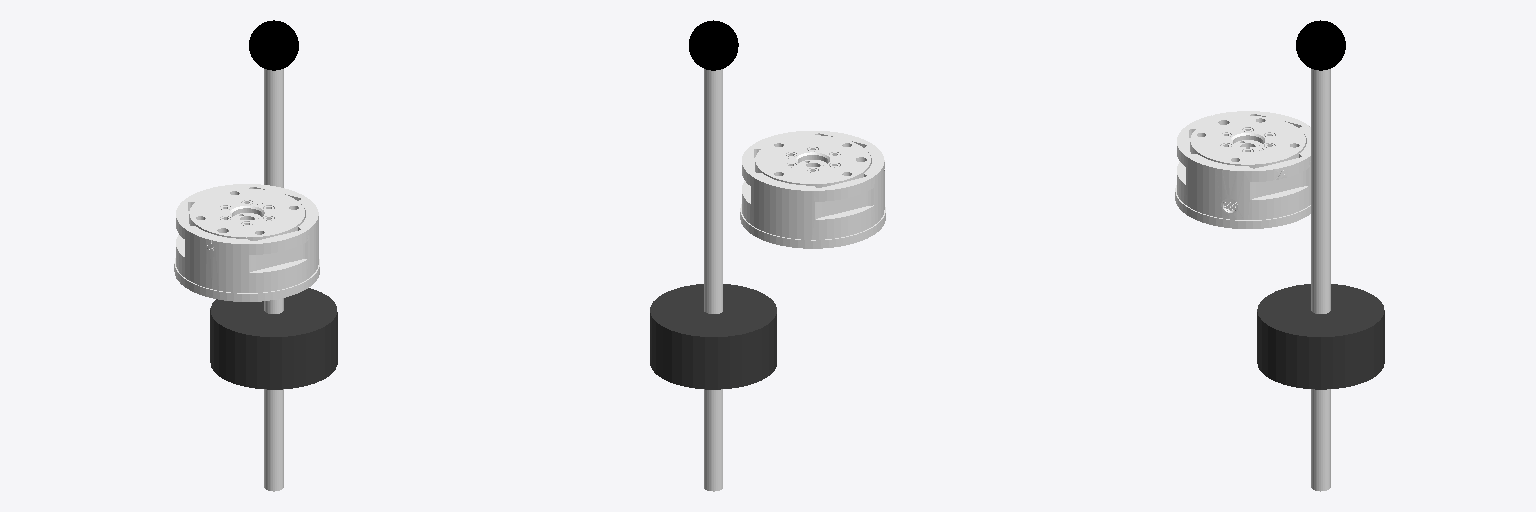
The robot description file, URDF, robot "kuka":
<?xml version="1.0" ?>
<robot name="kuka">
    <material name="DarkGrey">
        <color rgba="0.3 0.3 0.3 1.0"/>
    </material>
    <material name="Black">
        <color rgba="0 0 0 1.0"/>
    </material>
    <material name="Orange">
        <color rgba="1.0 0.487 0 1.0"/>
    </material>
    <material name="Silver">
        <color rgba="1.0 1.0 1.0 1.0"/>
    </material>
    <material name="Grey">
        <color rgba="0.7 0.7 0.7 1.0"/>
    </material>
    <material name="Blue">
        <color rgba="0.0 0.0 0.8 1.0"/>
    </material>
    <link name="lwr_world">
      <inertial>
        <mass value="0"/>
        <inertia ixx="0.0" ixy="0" ixz="0" iyy="0.0" iyz="0" izz="0.0"/>
      </inertial>
    </link>
    <!-- joint between {parent} and link_0 -->
    <joint name="lwr_world_joint" type="fixed">
      <origin rpy="0 0 0" xyz="0 0 0"/>
      <parent link="lwr_world"/>
      <child link="lwr_arm_0_link"/>
    </joint>
    <link name="lwr_arm_0_link">
        <inertial>
            <mass value="2.0"/>
            <origin xyz="0 0 0.055"/>
            <inertia ixx="0.00381666666667" ixy="0" ixz="0" iyy="0.0036" iyz="0" izz="0.00381666666667"/>
        </inertial>
        <visual>
            <origin rpy="0 0 3.14159265359" xyz="0 0 0"/>
            <geometry>
                <mesh filename="meshes/visual/base.STL"/>
            </geometry>
            <material name="Grey"/>
        </visual>

        <collision>
            <origin rpy="0 0 0" xyz="0 0 0.055"/>
            <geometry>
                <cylinder length="0.11" radius="0.07"/>
            </geometry>
        </collision>
    </link>
    <joint name="lwr_arm_0_joint" type="revolute">
        <origin rpy="0 0 3.14159265359" xyz="0 0 0.11"/>
        <axis xyz="0 0 1"/>
        <limit effort="204" lower="-2.96705972839" upper="2.96705972839" velocity="1.91986217719"/>
        <safety_controller k_position="30" k_velocity="30" soft_lower_limit="-2.93215314335" soft_upper_limit="2.93215314335"/>
        <dynamics damping="1.0"/>
        <parent link="lwr_arm_0_link"/>
        <child link="lwr_arm_1_link"/>
    </joint>
    <link name="lwr_arm_1_link">
        <inertial>
            <mass value="2.0"/>
            <origin rpy="0 0 0" xyz="0 -0.06 0.130"/>
            <inertia ixx="0.0136666666667" ixy="0" ixz="0" iyy="0.003" iyz="0" izz="0.0118666666667"/>
        </inertial>
        <visual>
            <origin rpy="0 0 0" xyz="0 0 -0.008"/>
            <geometry>
                <mesh filename="meshes/visual/link_1.STL"/>
            </geometry>
            <material name="Blue"/>
        </visual>

        <collision>
            <origin rpy="0 0 0" xyz="0 0 0.0"/>
            <geometry>
                <sphere radius="0.07"/>
            </geometry>
        </collision>
        <collision>
            <origin rpy="0 0 0" xyz="0 -0.06 0.2"/>
            <geometry>
                <sphere radius="0.07"/>
            </geometry>
        </collision>
        <collision>
            <origin rpy="0.291 0 0" xyz="0 -0.03 0.1"/>
            <geometry>
                <cylinder length="0.208" radius="0.07"/>
            </geometry>
        </collision>
    </link>
    <transmission name="lwr_arm_0_trans" type="SimpleTransmission">
        <actuator name="lwr_arm_0_motor"/>
        <joint name="lwr_arm_0_joint"/>
        <mechanicalReduction>1.0</mechanicalReduction>
    </transmission>
    <joint name="lwr_arm_1_joint" type="revolute">
        <origin rpy="0 0 0" xyz="0 0 0.2"/>
        <axis xyz="0 1 0"/>
        <limit effort="306" lower="-2.09439510239" upper="2.09439510239" velocity="1.91986217719"/>
        <safety_controller k_position="30" k_velocity="30" soft_lower_limit="-2.05948851735" soft_upper_limit="2.05948851735"/>
        <dynamics damping="1.0" friction="10"/>
        <parent link="lwr_arm_1_link"/>
        <child link="lwr_arm_2_link"/>
    </joint>
    <link name="lwr_arm_2_link">
        <inertial>
            <mass value="2.0"/>
            <origin rpy="0 0 0" xyz="0 0.06 0.07"/>
            <inertia ixx="0.0136666666667" ixy="0" ixz="0" iyy="0.003" iyz="0" izz="0.0118666666667"/>
        </inertial>
        <visual>
            <origin rpy="0 0 0" xyz="0 0 0.0"/>
            <geometry>
                <mesh filename="meshes/visual/link_2.STL"/>
            </geometry>
            <material name="Blue"/>
        </visual>

        <collision>
            <origin rpy="0 0 0" xyz="0 0 0.2"/>
            <geometry>
                <sphere radius="0.07"/>
            </geometry>
        </collision>
        <collision>
            <origin rpy="0 0 0" xyz="0 0.06 0.0"/>
            <geometry>
                <sphere radius="0.07"/>
            </geometry>
        </collision>
        <collision>
            <origin rpy="0.291 0 0" xyz="0 0.03 0.1"/>
            <geometry>
                <cylinder length="0.208" radius="0.07"/>
            </geometry>
        </collision>
    </link>
    <transmission name="lwr_arm_1_trans" type="SimpleTransmission">
        <actuator name="lwr_arm_1_motor"/>
        <joint name="lwr_arm_1_joint"/>
        <mechanicalReduction>1.0</mechanicalReduction>
    </transmission>
    <joint name="lwr_arm_2_joint" type="revolute">
        <origin rpy="0 0 0" xyz="0 0 0.20"/>
        <axis xyz="0 0 1"/>
        <limit effort="204" lower="-2.96705972839" upper="2.96705972839" velocity="2.26892802759"/>
        <safety_controller k_position="30" k_velocity="30" soft_lower_limit="-2.93215314335" soft_upper_limit="2.93215314335"/>
        <dynamics damping="1.0"/>
        <parent link="lwr_arm_2_link"/>
        <child link="lwr_arm_3_link"/>
    </joint>
    <link name="lwr_arm_3_link">
        <inertial>
            <mass value="2.0"/>
            <origin rpy="0 0 0" xyz="0 0.06 0.130"/>
            <inertia ixx="0.0136666666667" ixy="0" ixz="0" iyy="0.003" iyz="0" izz="0.0118666666667"/>
        </inertial>
        <visual>
            <origin rpy="0 0 0" xyz="0 0 -0.008"/>
            <geometry>
                <mesh filename="meshes/visual/link_3.STL"/>
            </geometry>
            <material name="Blue"/>
        </visual>

        <collision>
            <origin rpy="0 0 0" xyz="0 0 0.0"/>
            <geometry>
                <sphere radius="0.07"/>
            </geometry>
        </collision>
        <collision>
            <origin rpy="0 0 0" xyz="0 0.06 0.2"/>
            <geometry>
                <sphere radius="0.07"/>
            </geometry>
        </collision>
        <collision>
            <origin rpy="-0.291 0 0" xyz="0 0.03 0.1"/>
            <geometry>
                <cylinder length="0.208" radius="0.07"/>
            </geometry>
        </collision>
    </link>
    <transmission name="lwr_arm_2_trans" type="SimpleTransmission">
        <actuator name="lwr_arm_2_motor"/>
        <joint name="lwr_arm_2_joint"/>
        <mechanicalReduction>1.0</mechanicalReduction>
    </transmission>
    <joint name="lwr_arm_3_joint" type="revolute">
        <origin rpy="0 0 0" xyz="0 0 0.20"/>
        <axis xyz="0 -1 0"/>
        <limit effort="306" lower="-2.09439510239" upper="2.09439510239" velocity="2.26892802759"/>
        <safety_controller k_position="30" k_velocity="30" soft_lower_limit="-2.05948851735" soft_upper_limit="2.05948851735"/>
        <dynamics damping="1.0"/>
        <parent link="lwr_arm_3_link"/>
        <child link="lwr_arm_4_link"/>
    </joint>
    <link name="lwr_arm_4_link">
        <inertial>
            <mass value="2.0"/>
            <origin rpy="0 0 0" xyz="0 -0.06 0.07"/>
            <inertia ixx="0.0136666666667" ixy="0" ixz="0" iyy="0.003" iyz="0" izz="0.0118666666667"/>
        </inertial>
        <visual>
            <origin rpy="0 0 0" xyz="0 0 0.0"/>
            <geometry>
            <mesh filename="meshes/visual/link_4.STL"/>
                </geometry>
            <material name="Blue"/>
        </visual>

        <collision>
            <origin rpy="0 0 0" xyz="0 0 0.2"/>
            <geometry>
                <sphere radius="0.07"/>
            </geometry>
        </collision>
            <collision>
            <origin rpy="0 0 0" xyz="0 -0.06 0.0"/>
            <geometry>
                <sphere radius="0.07"/>
            </geometry>
        </collision>
        <collision>
            <origin rpy="-0.291 0 0" xyz="0 -0.03 0.1"/>
            <geometry>
                <cylinder length="0.208" radius="0.07"/>
            </geometry>
        </collision>
    </link>
    <transmission name="lwr_arm_3_trans" type="SimpleTransmission">
        <actuator name="lwr_arm_3_motor"/>
        <joint name="lwr_arm_3_joint"/>
        <mechanicalReduction>1.0</mechanicalReduction>
    </transmission>
    <joint name="lwr_arm_4_joint" type="revolute">
        <origin rpy="0 0 0" xyz="0 0 0.20"/>
        <axis xyz="0 0 1"/>
        <limit effort="204" lower="-2.96705972839" upper="2.96705972839" velocity="2.26892802759"/>
        <safety_controller k_position="30" k_velocity="30" soft_lower_limit="-2.93215314335" soft_upper_limit="2.93215314335"/>
        <dynamics damping="1.0"/>
        <parent link="lwr_arm_4_link"/>
        <child link="lwr_arm_5_link"/>
    </joint>
    <link name="lwr_arm_5_link">
        <inertial>
            <mass value="2.0"/>
            <origin rpy="0 0 0" xyz="0 0 0.124"/>
            <inertia ixx="0.0126506666667" ixy="0" ixz="0" iyy="0.003" iyz="0" izz="0.0108506666667"/>
        </inertial>
        <visual>
            <origin rpy="0 0 0" xyz="0 0 -0.008"/>
            <geometry name="lwr_arm_5_geom">
                <mesh filename="meshes/visual/link_5.STL"/>
            </geometry>
            <material name="Blue"/>
        </visual>

        <collision>
            <origin rpy="0 0 0" xyz="0 0 0.0"/>
            <geometry>
                <sphere radius="0.07"/>
            </geometry>
        </collision>
        <collision>
            <origin rpy="0 0 0" xyz="0 -0.04 0.19"/>
            <geometry>
                <sphere radius="0.07"/>
            </geometry>
        </collision>
        <collision>
            <origin rpy="0.207 0 0" xyz="0 -0.02 0.095"/>
            <geometry>
                <cylinder length="0.198" radius="0.07"/>
            </geometry>
        </collision>
    </link>
    <transmission name="lwr_arm_4_trans" type="SimpleTransmission">
        <actuator name="lwr_arm_4_motor"/>
        <joint name="lwr_arm_4_joint"/>
        <mechanicalReduction>1.0</mechanicalReduction>
    </transmission>
    <joint name="lwr_arm_5_joint" type="revolute">
        <origin rpy="0 0 0" xyz="0 0 0.19"/>
        <axis xyz="0 1 0"/>
        <limit effort="306" lower="-2.09439510239" upper="2.09439510239" velocity="3.14159265359"/>
        <safety_controller k_position="30" k_velocity="30" soft_lower_limit="-2.05948851735" soft_upper_limit="2.05948851735"/>
        <dynamics damping="1.0"/>
        <parent link="lwr_arm_5_link"/>
        <child link="lwr_arm_6_link"/>
    </joint>
    <link name="lwr_arm_6_link">
        <inertial>
            <mass value="0.2"/>
            <origin rpy="0 0 0" xyz="0 0 0.0625"/>
            <inertia ixx="0.000520833333333" ixy="0" ixz="0" iyy="0.000520833333333" iyz="0" izz="0.000520833333333"/>
        </inertial>
        <visual>
            <origin rpy="0 0 0" xyz="0 0 0"/>
            <geometry>
                <mesh filename="meshes/visual/link_6.STL"/>
            </geometry>
            <material name="Grey"/>
        </visual>
    </link>
    <transmission name="lwr_arm_5_trans" type="SimpleTransmission">
        <actuator name="lwr_arm_5_motor"/>
        <joint name="lwr_arm_5_joint"/>
        <mechanicalReduction>1.0</mechanicalReduction>
    </transmission>
    <joint name="lwr_arm_6_joint" type="revolute">
        <origin rpy="0 0 3.14159265359" xyz="0 0 0.078"/>
        <axis xyz="0 0 1"/>
        <limit effort="204" lower="-2.96705972839" upper="2.96705972839" velocity="3.14159265359"/>
        <safety_controller k_position="30" k_velocity="30" soft_lower_limit="-2.93215314335" soft_upper_limit="2.93215314335"/>
        <dynamics damping="1.0"/>
        <parent link="lwr_arm_6_link"/>
        <child link="lwr_arm_7_link"/>
    </joint>
    <link name="lwr_arm_7_link">
        <inertial>
            <mass value="0.2"/>
            <origin xyz="0 0 0"/>
            <inertia ixx="0.0333333333333" ixy="0" ixz="0" iyy="0.0333333333333" iyz="0" izz="0.0333333333333"/>
        </inertial>
        <visual>
            <origin rpy="0 0 0" xyz="0 0 0"/>
            <geometry>
                <mesh filename="meshes/visual/link_7.STL"/>
            </geometry>
            <material name="DarkGrey"/>
        </visual>
        <visual>
            <origin rpy="0 0 0" xyz="0 0 0.016"/>
            <geometry>
                <cylinder length="0.03" radius="0.033"/>
            </geometry>
            <material name="DarkGrey"/>
        </visual>

        <collision>
            <origin rpy="0 0 0" xyz="0 0 0"/>
            <geometry>
                <cylinder length="0.046" radius="0.04"/>
            </geometry>
        </collision>
    </link>
    <joint name="lwr_arm_7_joint" type="fixed">
        <parent link="lwr_arm_7_link"/>
        <child link="adaptor_kuka"/>
        <origin rpy="0 0 3.14159265359" xyz="0 0 0.032"/>
    </joint>
    <link name="adaptor_kuka">
        <inertial>
            <mass value="0.1"/>
            <origin xyz="0 0 0"/>
            <inertia ixx="0.01" ixy="0" ixz="0" iyy="0.01" iyz="0" izz="0.01"/>
        </inertial>
        <visual>
            <origin rpy="0 0 0" xyz="0 0 0.0"/>
            <geometry>
                <mesh filename="meshes/visual/adaptor_kuka.stl" scale="0.001 0.001 0.001"/>
            </geometry>
            <material name="Black"/>
        </visual>

        <collision>
            <origin rpy="0 3.1416 0" xyz="0 0 0"/>
            <geometry>
                <mesh filename="meshes/visual/adaptor_kuka.stl" scale="0.001 0.001 0.001"/>
            </geometry>
        </collision>
    </link>
    <joint name="force_torque_sensor_mount" type="fixed">
        <origin rpy="0 0 0" xyz="0 0 0.0453"/>
        <parent link="adaptor_kuka"/>
        <child link="force_torque_sensor"/>
    </joint>
    <link name="force_torque_sensor">
        <inertial>
            <mass value="0.5"/>
            <origin xyz="-0.000007 0.001524 0.027591"/>
            <inertia ixx="0.0333333333333" ixy="0" ixz="0" iyy="0.0333333333333" iyz="0" izz="0.0333333333333"/>
        </inertial>
        <visual>
            <origin rpy="0 0 0" xyz="0 0 0"/>
            <material name="Silver"/>
            <geometry>
                <mesh filename="meshes/visual/force_sensor.stl" scale="0.001 0.001 0.001"/>
            </geometry>
        </visual>

        <collision>
            <origin rpy="0 0 0" xyz="0 0 -0.0333"/>
            <geometry>
                <cylinder length="0.0333" radius="0.04"/>
            </geometry>
        </collision>
    </link>
    <joint name="end_effector_joint" type="fixed">
        <origin rpy="0 0 0.0" xyz="0 0 0.02"/>
        <parent link="force_torque_sensor"/>
        <child link="end_effector"/>
    </joint>
    <link name="end_effector">
        <inertial>
            <mass value="1"/>
            <origin xyz="-0.000007 0.001524 0.027591"/>
            <inertia ixx="0.00409836" ixy="0.000000" ixz="0.000000" iyy="0.00061475" iyz="0.000000" izz="0.00409836"/>
        </inertial>
        <visual>
            <origin rpy="0 0 0" xyz="0 0 -0.0425"/>
            <geometry>
                <!-- <cylinder length="0.015" radius="0.04"/> -->
                <cylinder length="0.25" radius="0.005"/>
            </geometry>
            <material name="Silver"/>
        </visual>
    </link>
    <joint name="end_effector_ball" type="fixed">
        <origin rpy="0 0 0.0" xyz="0 0 0.085"/>
        <parent link="end_effector"/>
        <child link="end_effector_ball"/>
    </joint>
    <link name="end_effector_ball">
    <contact>
      <lateral_friction value="0.1"/>
      <rolling_friction value="0.0"/>
      <spinning_friction value="0.0"/>
      <contact_stiffness value="10000.0"/>
      <contact_damping value="0.7"/>
      <!-- <contact_cfm value="0.0"/> -->
      <!-- <contact_erp value="1.0"/> -->
    </contact>
    <inertial>
        <mass value="0.05"/>
        <origin xyz="-0.0 0.0 0.0"/>
        <inertia ixx="0.015" ixy="0.000000" ixz="0.000000" iyy="0.015" iyz="0.000000" izz="0.015"/>
    </inertial>
    <visual>
        <origin rpy="0 0 0" xyz="0 0 0.0"/>
        <geometry>
            <sphere radius="0.013"/>
        </geometry>
        <material name="Black"/>
    </visual>
    <collision>
        <origin rpy="0 0 0" xyz="0 0 0.0"/>
        <geometry>
            <sphere radius="0.013"/>
        </geometry>
    </collision>
    </link>
</robot>

--- Facts derived from the render (not from the file) ---
The picture shows the robot from 3 angles, left to right: view 1: azimuth 30°, elevation 25°; view 2: azimuth 150°, elevation 25°; view 3: azimuth 270°, elevation 25°; orthographic projection.
Model kuka with 13 links and 12 joints (7 revolute, 5 fixed), rooted at lwr_world, posed every joint at zero.
Links seen in each view (by area): view 1: force_torque_sensor, lwr_arm_7_link, end_effector, end_effector_ball; view 2: force_torque_sensor, lwr_arm_7_link, end_effector, end_effector_ball; view 3: force_torque_sensor, lwr_arm_7_link, end_effector, end_effector_ball.
Boxes of the visible links, bbox=[...] form: force_torque_sensor: bbox=[174, 184, 319, 301]; lwr_arm_7_link: bbox=[210, 288, 337, 389]; end_effector: bbox=[264, 69, 283, 491]; end_effector_ball: bbox=[249, 20, 298, 70]; force_torque_sensor: bbox=[740, 131, 885, 248]; lwr_arm_7_link: bbox=[650, 284, 776, 389]; end_effector: bbox=[704, 69, 722, 491]; end_effector_ball: bbox=[689, 20, 738, 70]; force_torque_sensor: bbox=[1175, 111, 1310, 228]; lwr_arm_7_link: bbox=[1257, 284, 1384, 389]; end_effector: bbox=[1311, 69, 1330, 491]; end_effector_ball: bbox=[1296, 20, 1345, 70].
Size in the robot's own frame: 0.1084 by 0.1084 by 0.2655 metres.
1 mesh visuals loaded from 10 distinct referenced files (1 binary STL); not drawn: 9 (reference not matched to a file when rendering).